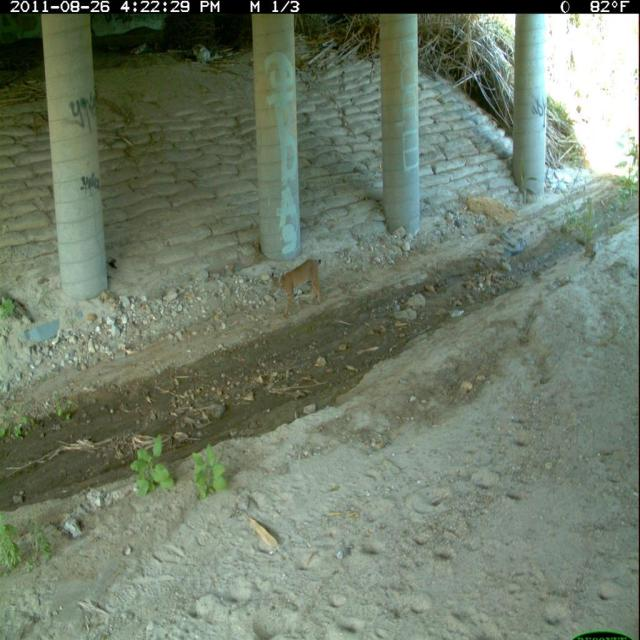bobcat: (268, 255, 327, 322)
